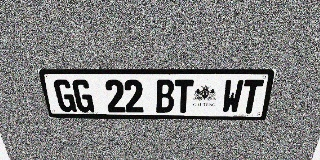2: (104, 79, 126, 112), (123, 79, 143, 113)
B: (156, 79, 174, 113)
G: (53, 79, 77, 112), (71, 79, 95, 112)
T: (239, 80, 264, 113), (174, 80, 194, 113)
W: (221, 80, 244, 113)
